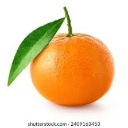orange: (28, 29, 117, 107)
